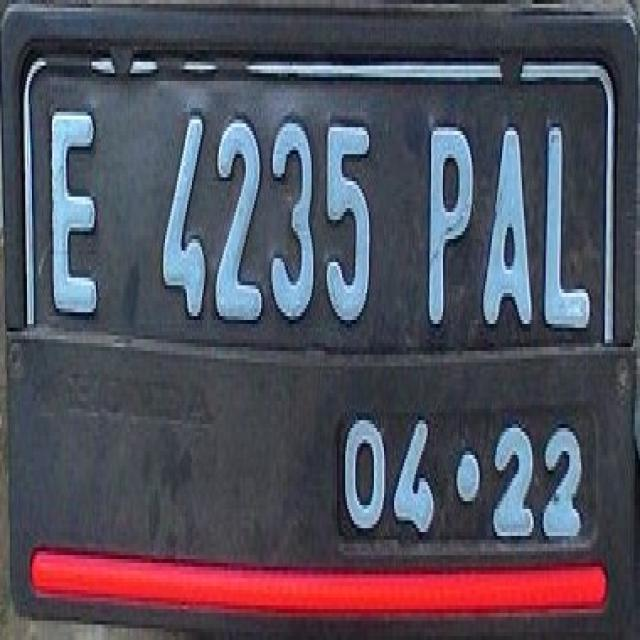plate: (20, 42, 615, 559)
